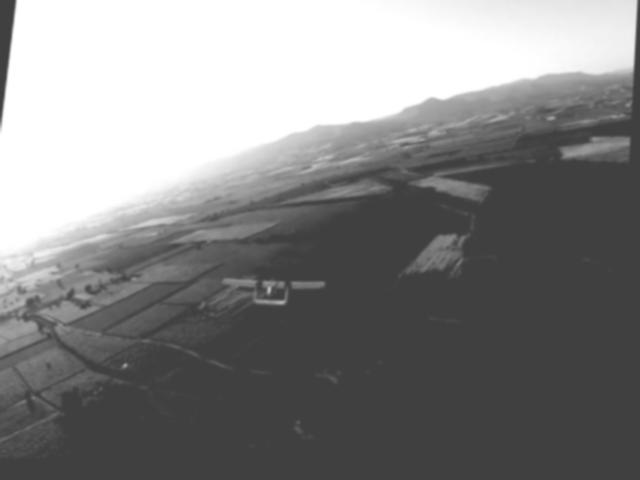hedef: (219, 259, 333, 324)
